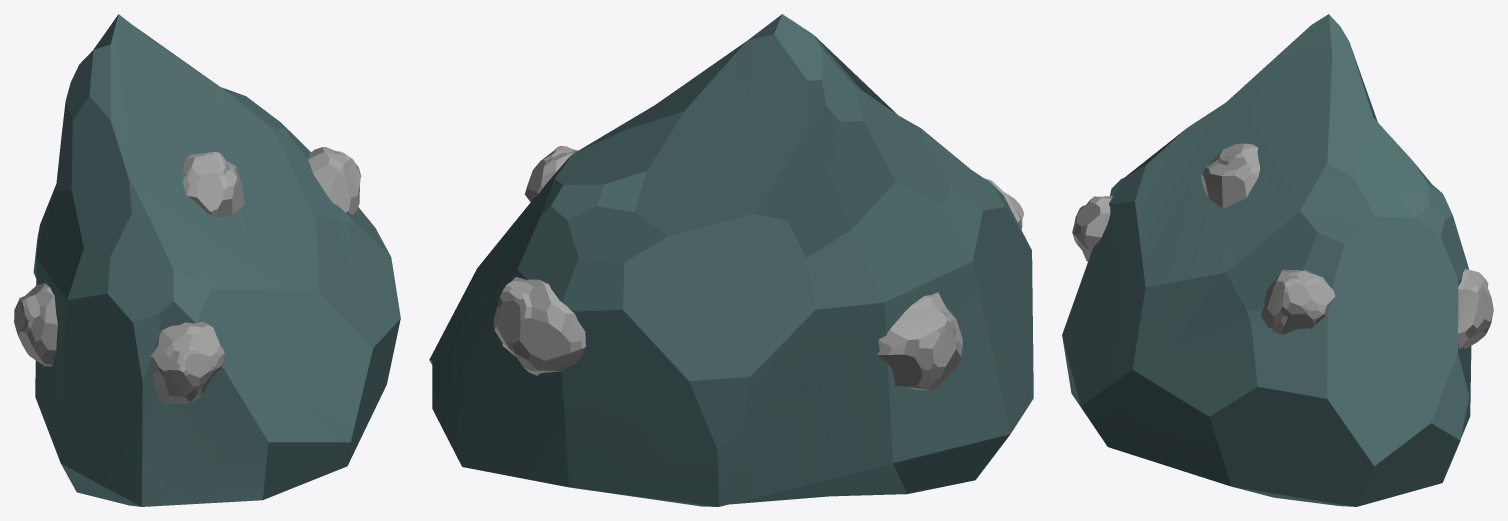
File: Iron5.fbx
3 renders of one model, left to right at view 1: azimuth 30°, elevation 25°; view 2: azimuth 150°, elevation 25°; view 3: azimuth 270°, elevation 25°, orthographic. The views are drawn at different scales.
Visible parts, largest first — view 1: Rock4, Nodes; view 2: Rock4, Nodes; view 3: Rock4, Nodes.
Part boxes in pixels (x1,y1,x2,y2): Rock4: (33,14,400,506); Nodes: (14,147,361,404); Rock4: (429,14,1033,506); Nodes: (493,146,1023,390); Rock4: (1062,14,1471,506); Nodes: (1072,143,1493,349).
Bounding box in the file's own units: 137 × 139 × 135.
